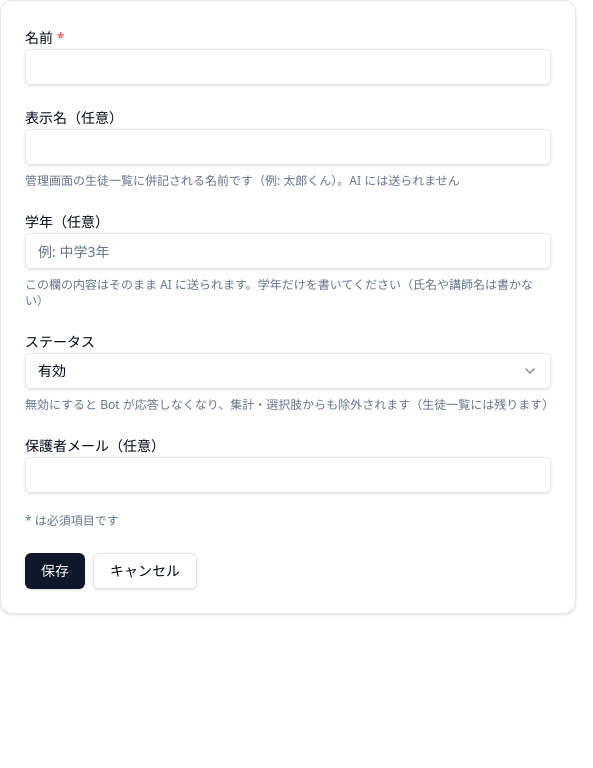
Test: PersonForm（H-8: fieldErrors の描画） › name 以外のフィールドのエラーも表示する
In the field labelled "名前 *": (288, 67) [25,49,551,85], type "太郎"
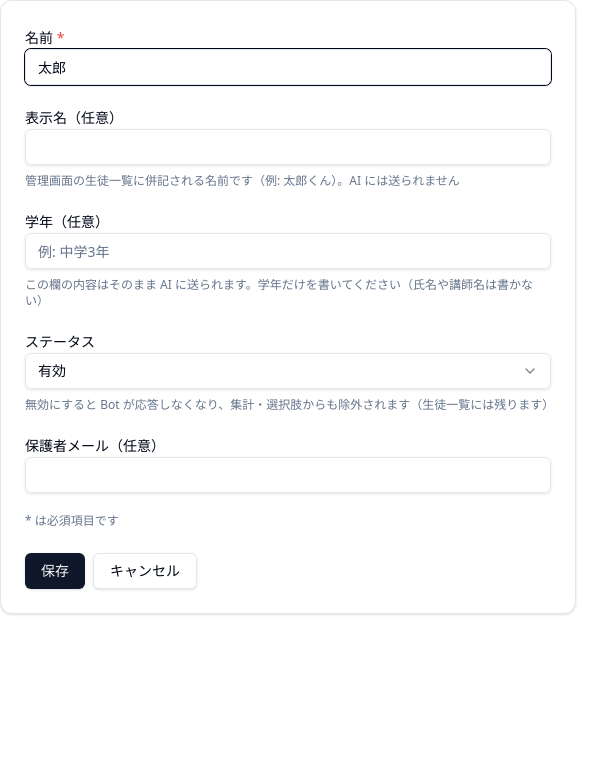
Click the button "保存": (55, 571) [25,553,85,589]
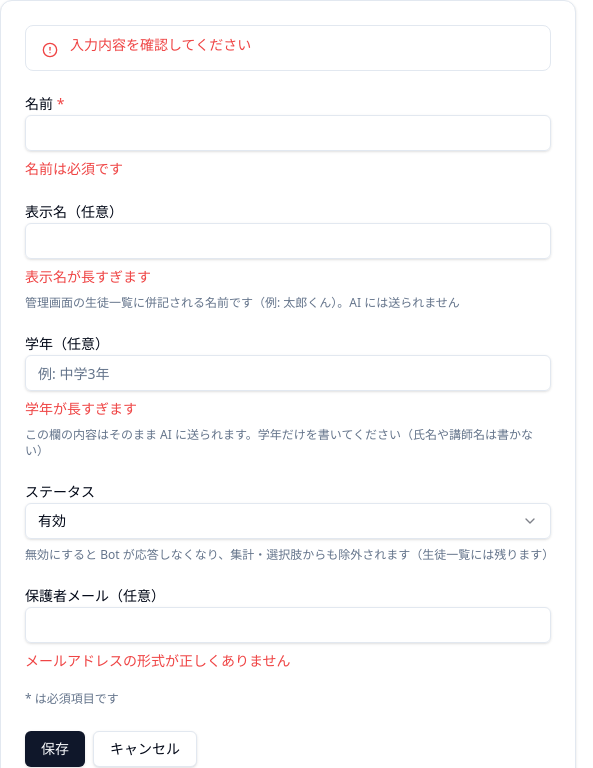
Check: the text "名前は必須です" is shown, box [25,159,123,178]
Check: the text "表示名が長すぎます" is shown, box [25,267,151,286]
Check: the text "学年が長すぎます" is shown, box [25,399,137,418]
